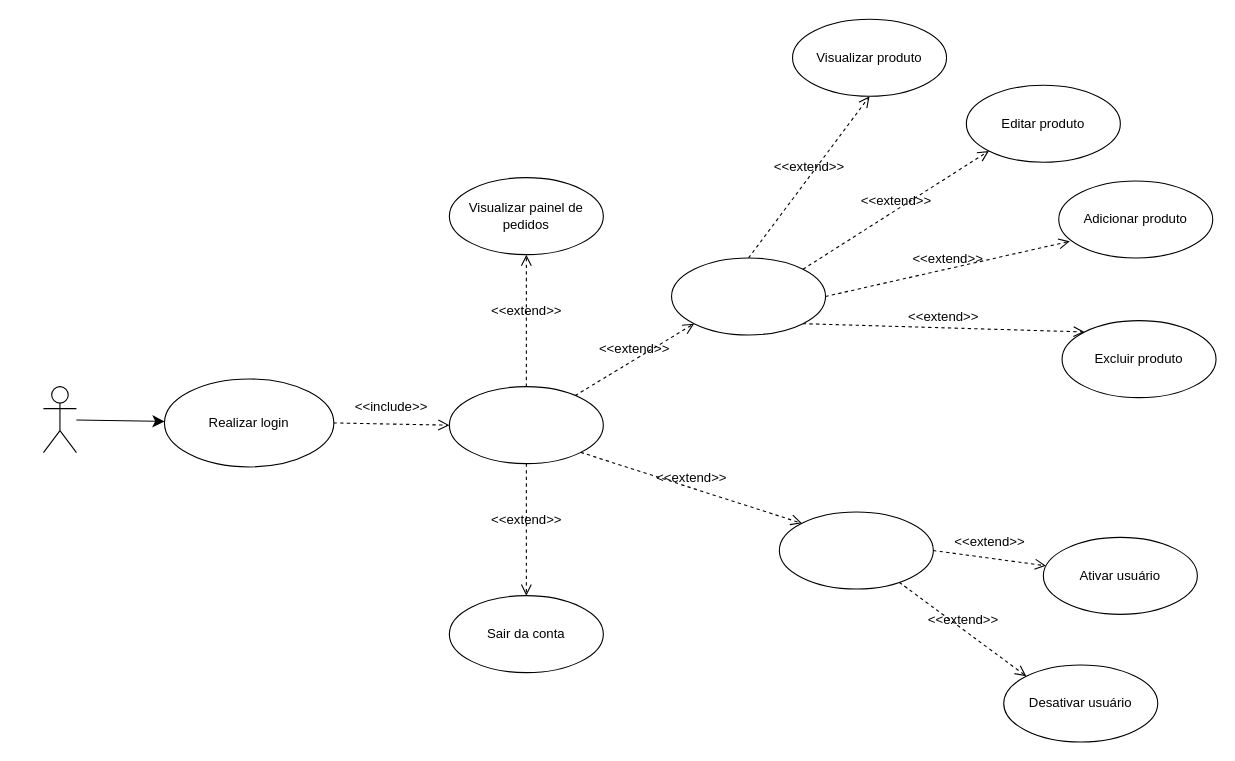
Image size: 1235x761. Some labels were removed from this diagram. Each missing label, with the centre of its shape:
"Administrador" belongs at point 59,419.
"Gerenciar produtos" belongs at point 748,296.
"Gerenciar usuários" belongs at point 855,550.
"Visualizar relatórios" belongs at point 525,425.
